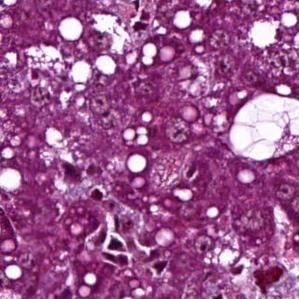ballooning: (229, 92, 299, 162)
